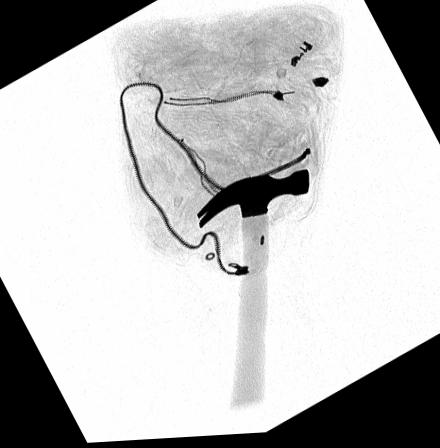Hammer: (196, 173, 309, 412)
